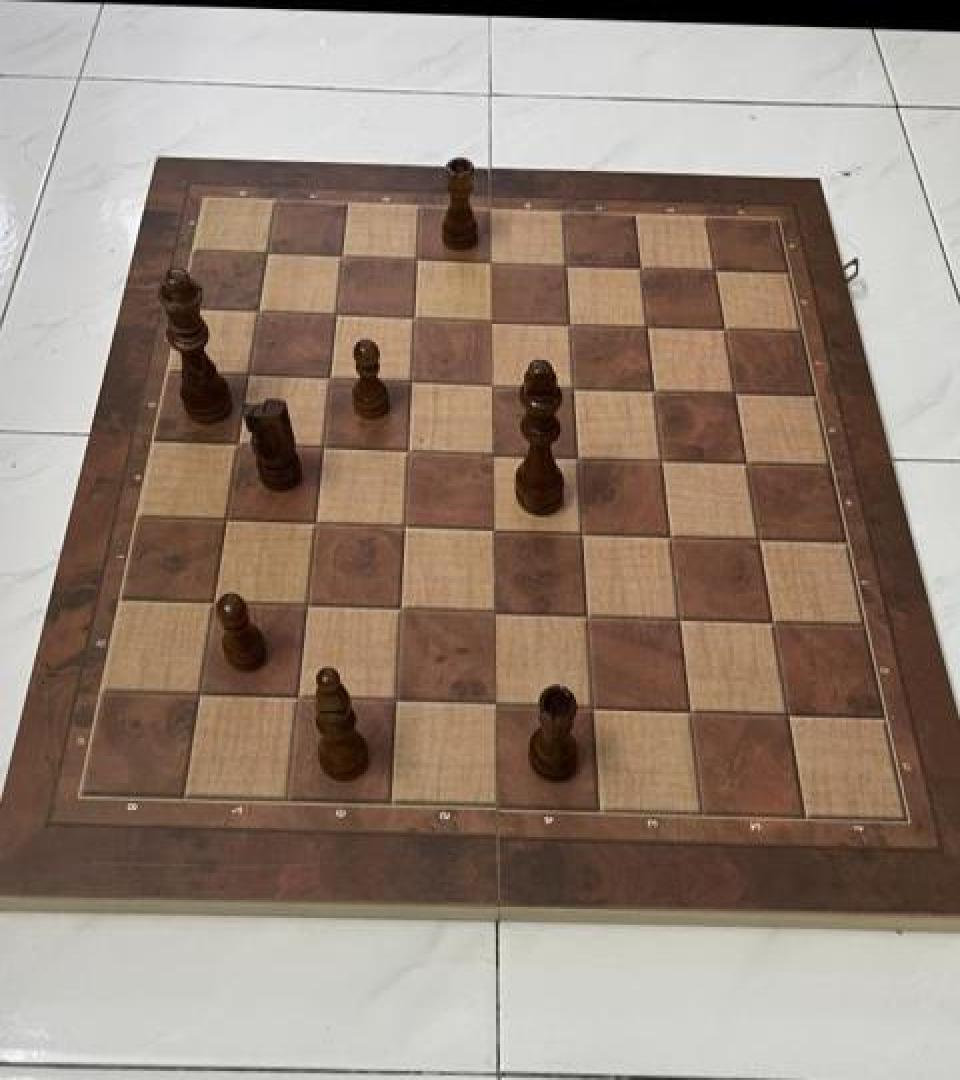xcorner: (630, 309, 664, 348), (476, 436, 510, 475), (478, 686, 512, 725), (251, 238, 285, 276), (326, 241, 360, 279), (400, 243, 434, 281), (474, 246, 508, 284), (549, 249, 583, 287), (623, 251, 657, 289), (698, 253, 732, 291), (243, 296, 277, 334), (320, 300, 354, 338), (398, 302, 432, 340), (475, 304, 509, 342), (552, 306, 586, 344), (707, 312, 741, 350), (233, 360, 267, 398), (314, 362, 348, 400), (395, 364, 429, 402), (475, 368, 509, 406), (556, 370, 590, 408), (637, 372, 671, 410), (718, 376, 752, 414), (223, 429, 257, 467), (307, 431, 341, 469), (392, 433, 426, 471), (560, 439, 594, 477), (645, 442, 679, 480), (729, 444, 763, 482), (212, 503, 246, 541), (300, 506, 334, 544), (388, 508, 422, 546), (477, 512, 511, 550), (565, 516, 599, 554), (653, 518, 687, 556), (741, 521, 775, 559), (199, 586, 233, 624), (292, 588, 326, 626), (385, 592, 419, 630), (477, 595, 511, 633), (570, 598, 604, 636), (662, 601, 696, 639), (755, 604, 789, 642), (186, 678, 220, 716), (283, 680, 317, 718), (380, 683, 414, 721), (575, 690, 609, 728), (673, 693, 707, 731), (770, 696, 804, 734)
